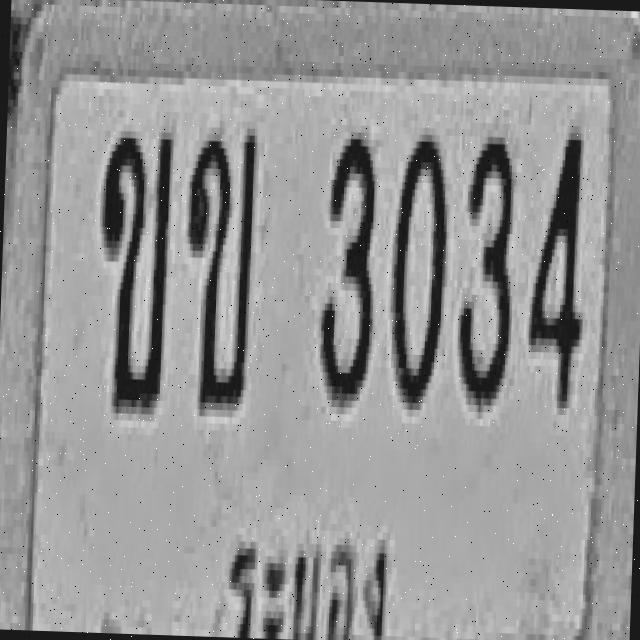0: (386, 123, 449, 407)
11KhorKhai: (180, 123, 258, 407), (94, 127, 172, 411)
3: (316, 128, 379, 404), (455, 128, 515, 406)
4: (524, 120, 588, 404)
Rayong: (216, 514, 410, 640)
